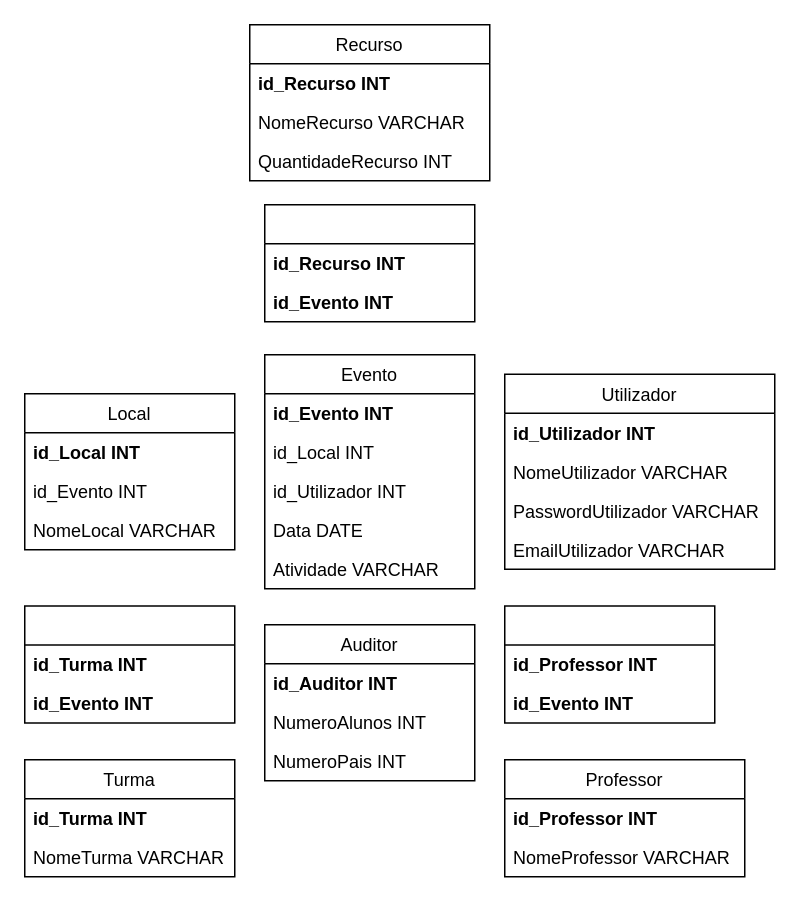
Image size: 800x902. Some labels were removed from this diagram. Here are the shapes that lost their labels. From the top down, the box of each, then its label:
(263, 203, 475, 322): RecursoEvento
(23, 604, 235, 723): TurmaEvento
(503, 604, 715, 723): ProfessorEvento
